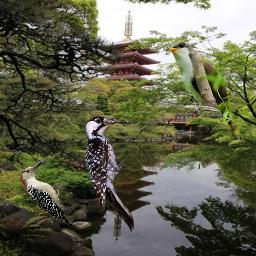Cuckoo: (163, 40, 247, 140)
Woodpecker: (84, 116, 134, 232), (20, 160, 78, 227)
